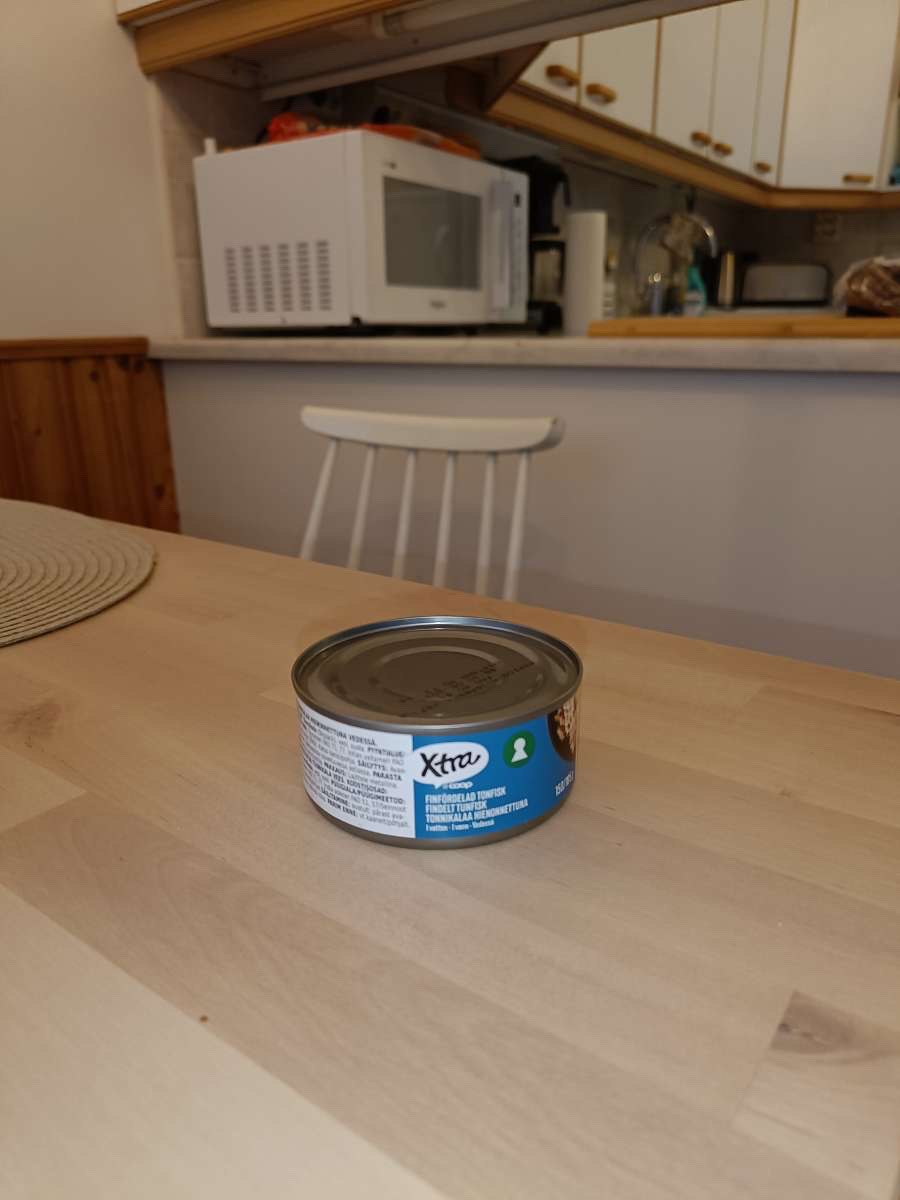Konservburk: (272, 602, 612, 860)
